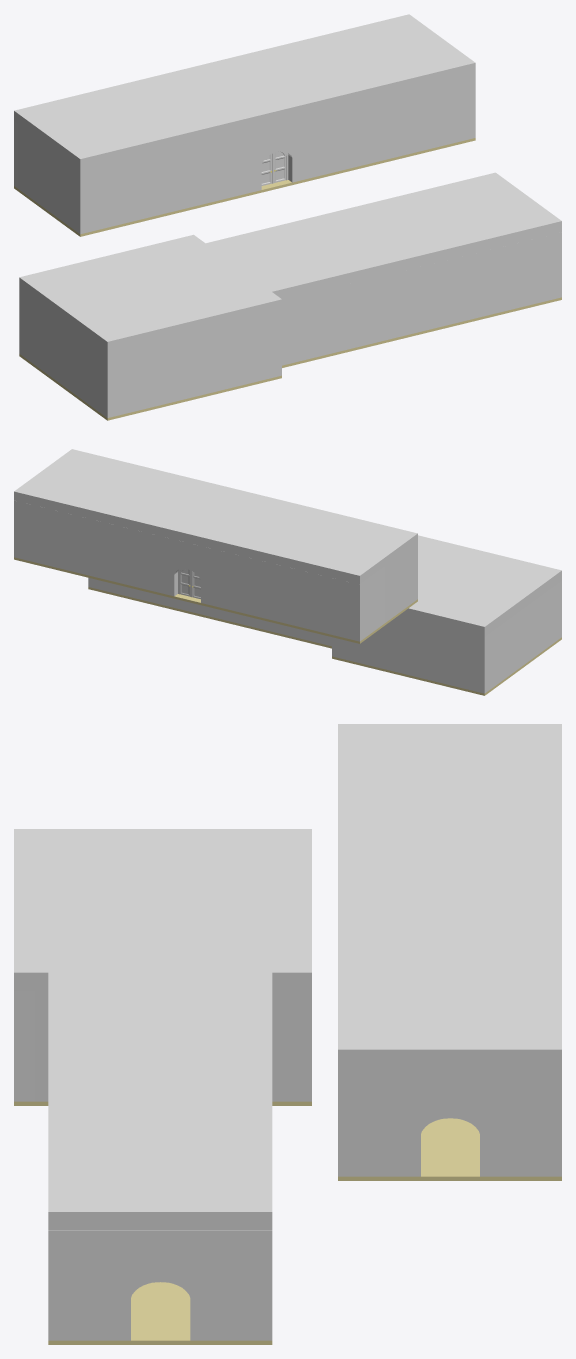
The model's file is LibraryLayout2_Materials 1.fbx.
3 views of the same model, one above another, from view 1: azimuth 30°, elevation 25°; view 2: azimuth 150°, elevation 25°; view 3: azimuth 270°, elevation 25° (orthographic). The views are drawn at different scales.
Parts seen in each view (by area): view 1: CeilingStairsCorridor.001, WallsStairsCorridor.001, CeilingMedCorridor.001, WallsMedCorridor.001, FloorStairsCorridor.001, FloorMedCorridor.001; view 2: CeilingMedCorridor.001, WallsMedCorridor.001, WallsStairsCorridor.001, CeilingStairsCorridor.001, FloorStairsCorridor.001, FloorMedCorridor.001, DoorLeft_Prefab.003; view 3: CeilingStairsCorridor.001, CeilingMedCorridor.001, WallsStairsCorridor.001, WallsMedCorridor.001, FloorStairsCorridor.001, FloorMedCorridor.001.
Part boxes in pixels (left/top/right/bottom): CeilingStairsCorridor.001: left=19, top=172, right=561, bottom=352; WallsStairsCorridor.001: left=19, top=232, right=561, bottom=417; CeilingMedCorridor.001: left=14, top=14, right=475, bottom=169; WallsMedCorridor.001: left=14, top=73, right=475, bottom=234; FloorStairsCorridor.001: left=19, top=297, right=561, bottom=420; FloorMedCorridor.001: left=14, top=138, right=475, bottom=236; CeilingMedCorridor.001: left=14, top=449, right=417, bottom=584; WallsMedCorridor.001: left=14, top=500, right=417, bottom=641; WallsStairsCorridor.001: left=88, top=578, right=561, bottom=693; CeilingStairsCorridor.001: left=399, top=535, right=561, bottom=636; FloorStairsCorridor.001: left=88, top=587, right=561, bottom=695; FloorMedCorridor.001: left=14, top=557, right=417, bottom=643; DoorLeft_Prefab.003: left=178, top=569, right=191, bottom=596; CeilingStairsCorridor.001: left=14, top=829, right=311, bottom=1230; CeilingMedCorridor.001: left=338, top=724, right=561, bottom=1066; WallsStairsCorridor.001: left=14, top=991, right=311, bottom=1340; WallsMedCorridor.001: left=338, top=1067, right=561, bottom=1176; FloorStairsCorridor.001: left=14, top=1101, right=311, bottom=1344; FloorMedCorridor.001: left=338, top=1118, right=561, bottom=1180.
Size of the model in its own units: 41.55 by 14.92 by 25.13.
